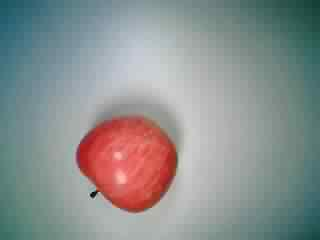apple: (75, 112, 179, 216)
